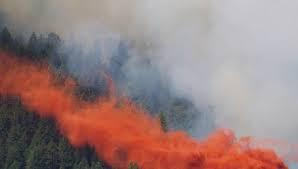fire: (0, 53, 286, 169)
yanwu: (65, 1, 294, 138)
